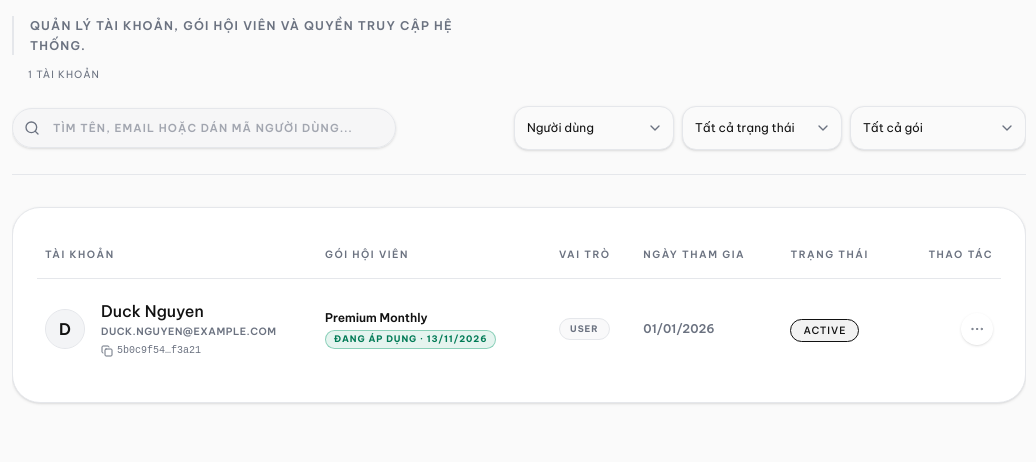
Test: UsersClient filters › switches to the exact userId filter when a UUID is typed
In the field with placeholder "TÌM TÊN, EMAIL HOẶC DÁN MÃ NGƯỜI DÙNG...": [204, 128] box [12, 108, 396, 148], type "5b0c9f54-7d61-4f7a-9a4e-9f1f7f4f3a21"
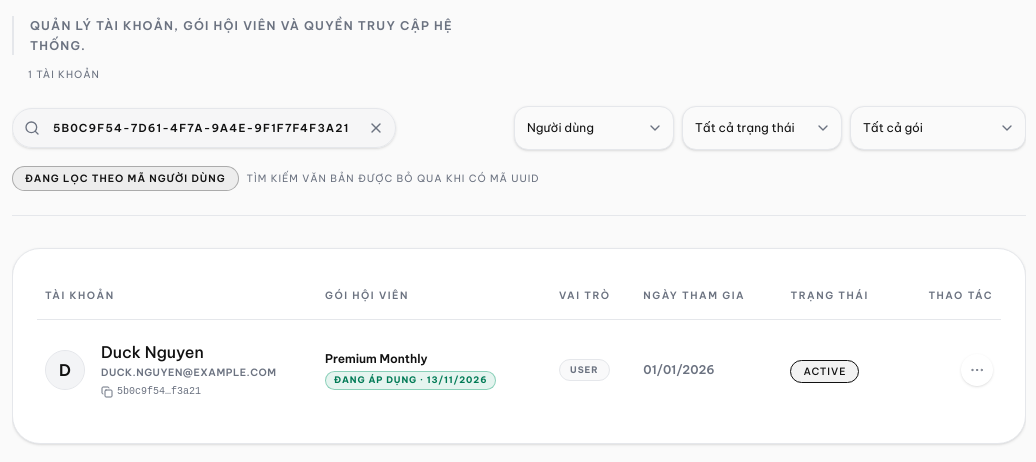
expect the text "Đang lọc theo mã người dùng" is shown: met, box [12, 166, 239, 191]
